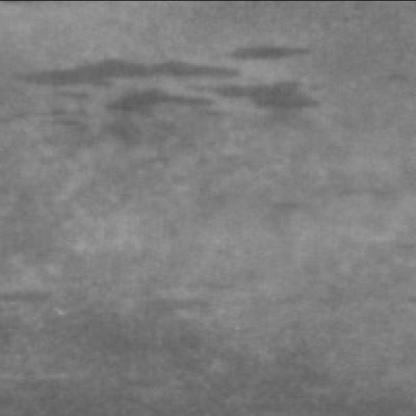inclusion: (10, 44, 329, 137)
